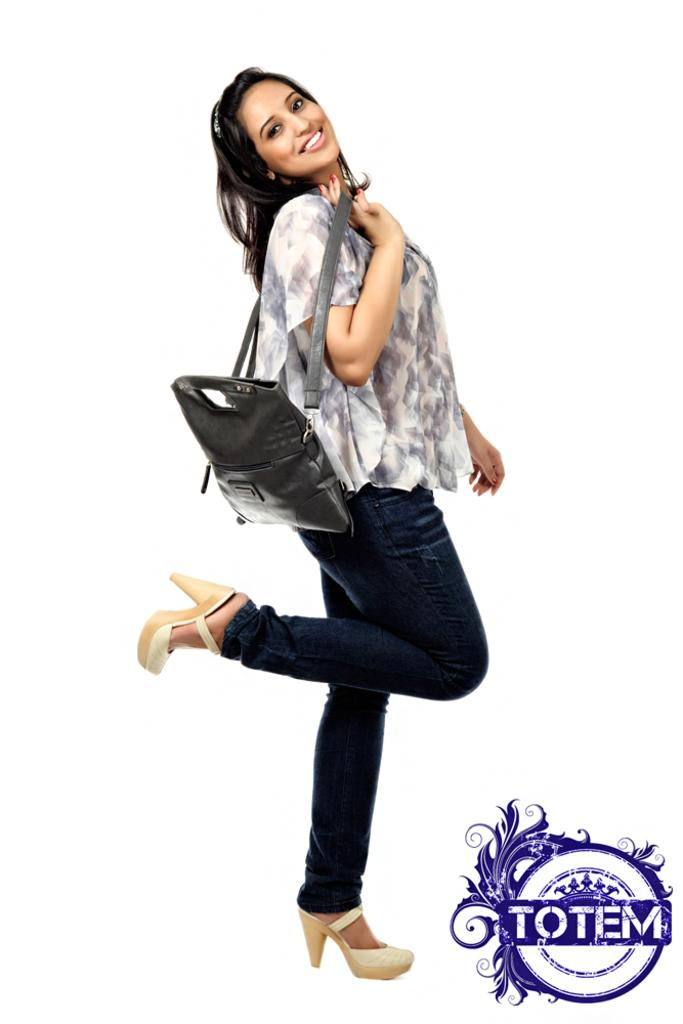Luggage-and-bags: (170, 176, 357, 527)
